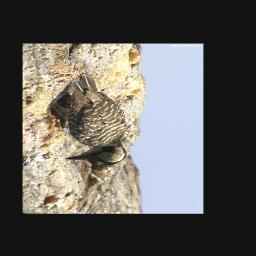Woodpecker: (49, 71, 127, 167)
